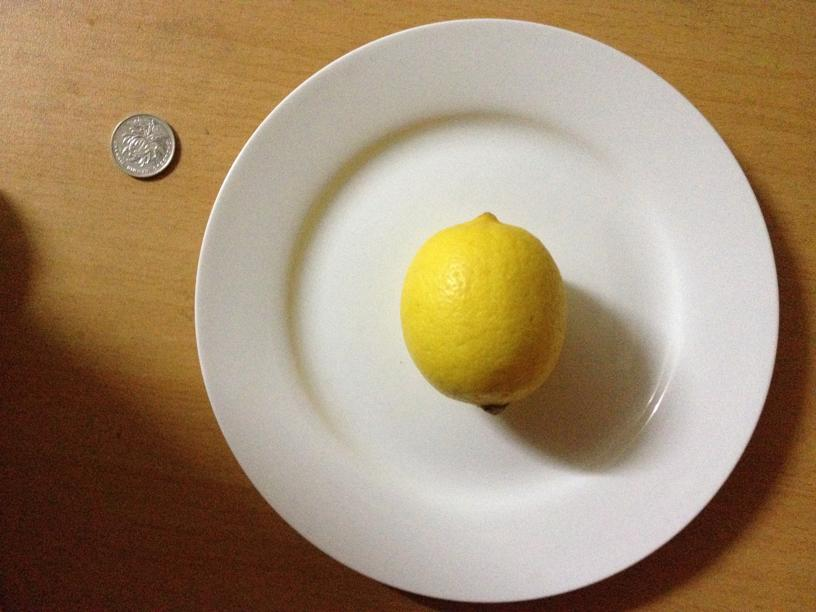coin: (109, 113, 175, 180)
lemon: (406, 207, 563, 408)
